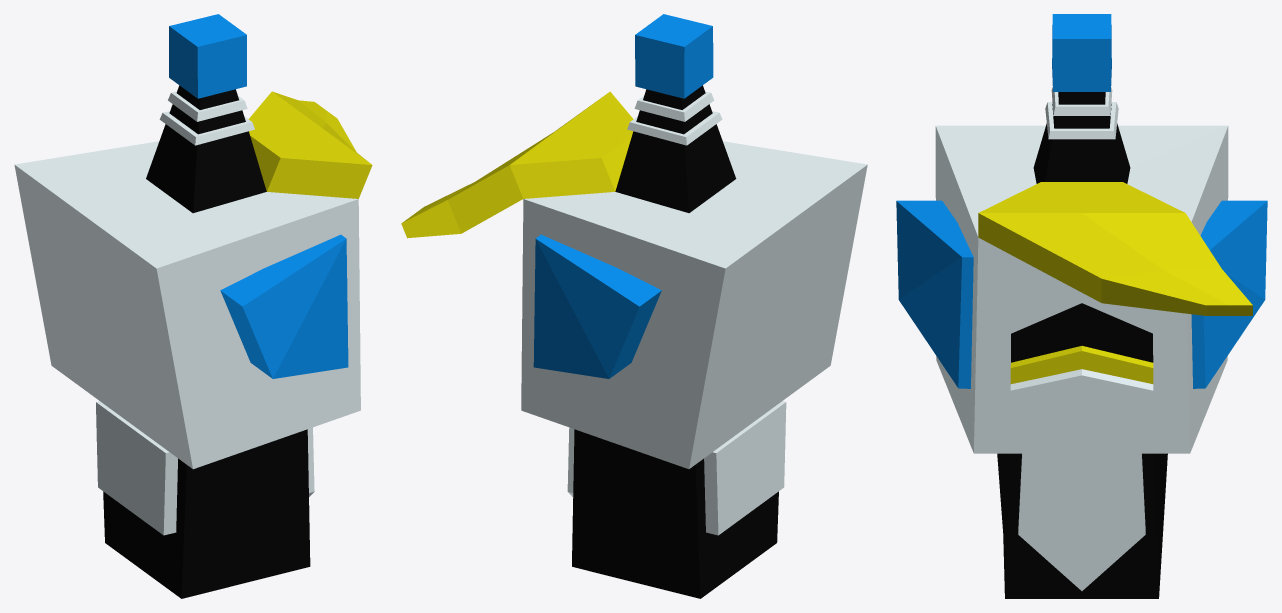
The model's file is Robot_Social.fbx.
3 renders of one model, left to right at view 1: azimuth 30°, elevation 25°; view 2: azimuth 150°, elevation 25°; view 3: azimuth 270°, elevation 25°, orthographic. The views are drawn at different scales.
Visible parts, largest first — view 1: Cube; view 2: Cube; view 3: Cube.
Part boxes in pixels (x1,y1,x2,y2): Cube: (14,14,372,598); Cube: (401,14,867,598); Cube: (896,14,1267,598).
Bounding box in the file's own units: 311 × 500 × 312.
